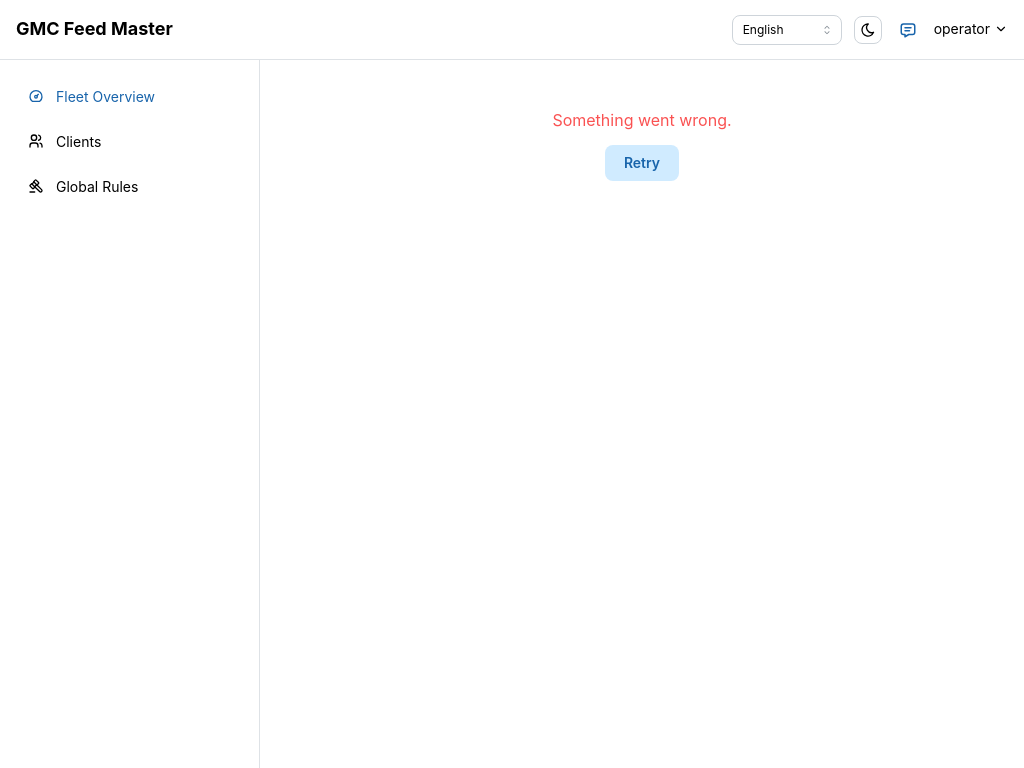
Test: DashboardPage › renders the empty state and the error state with retry
The width and height of the screenshot is (1024, 768).
Expected: the message reads "Something went wrong.", 552,110 -> 732,130
Click the button "Retry" at (642, 163), box 605,145 -> 679,181
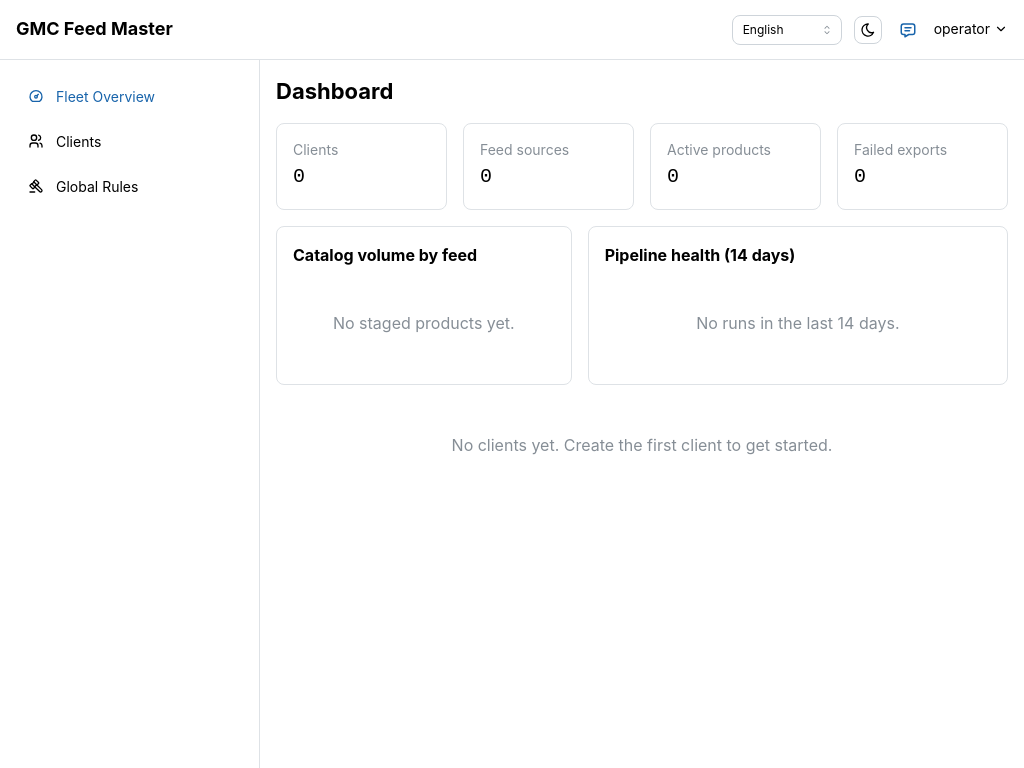
Result: the text "No clients yet. Create the first client to get started." is shown at 452,433 -> 832,458
